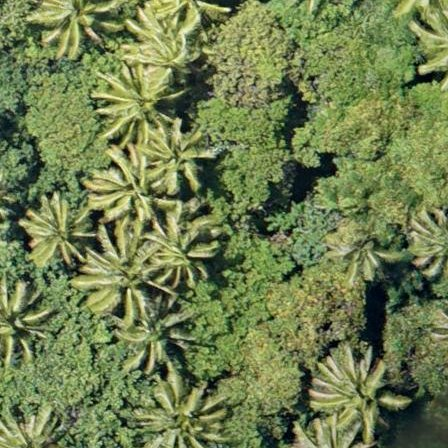palm_tree: (306, 349, 417, 436), (137, 371, 230, 448), (87, 151, 164, 225), (97, 67, 175, 139), (89, 230, 159, 297), (130, 16, 201, 82), (138, 128, 210, 193), (147, 220, 216, 286), (122, 301, 191, 366), (21, 196, 86, 263), (35, 1, 116, 52)
